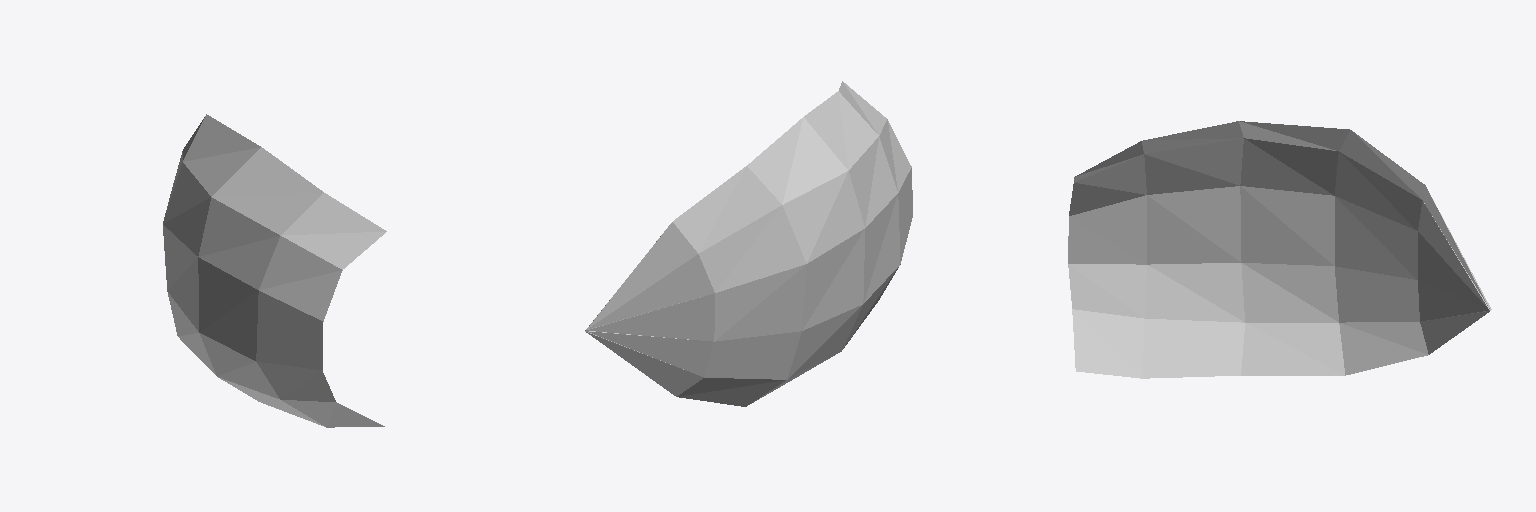
File: LiteSpi.obj
3 renders of one model, left to right at view 1: azimuth 30°, elevation 25°; view 2: azimuth 150°, elevation 25°; view 3: azimuth 270°, elevation 25°, orthographic.
Size of the model in its own units: 9.46 by 14.9 by 22.39.